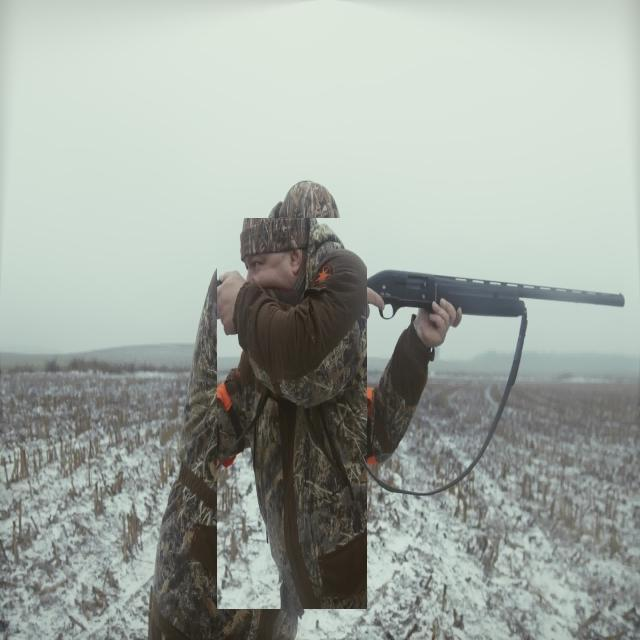poacher: (217, 218, 367, 609)
weapon: (299, 256, 558, 356)
